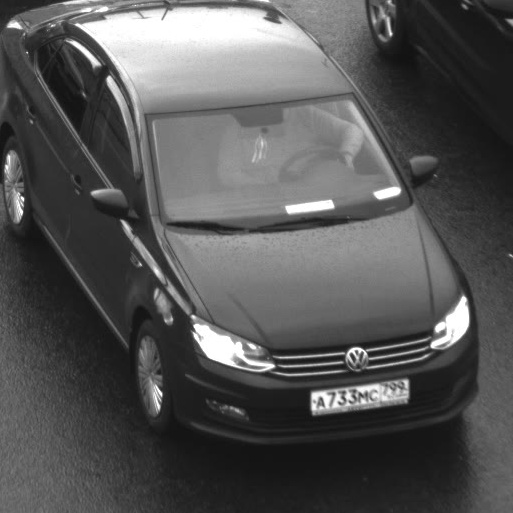plate: (298, 368, 417, 421)
